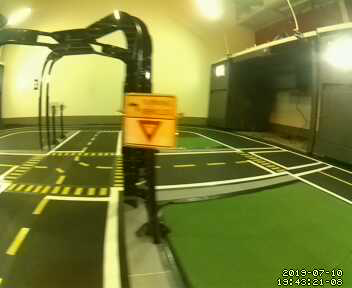Turn Yield: (122, 91, 179, 151)
